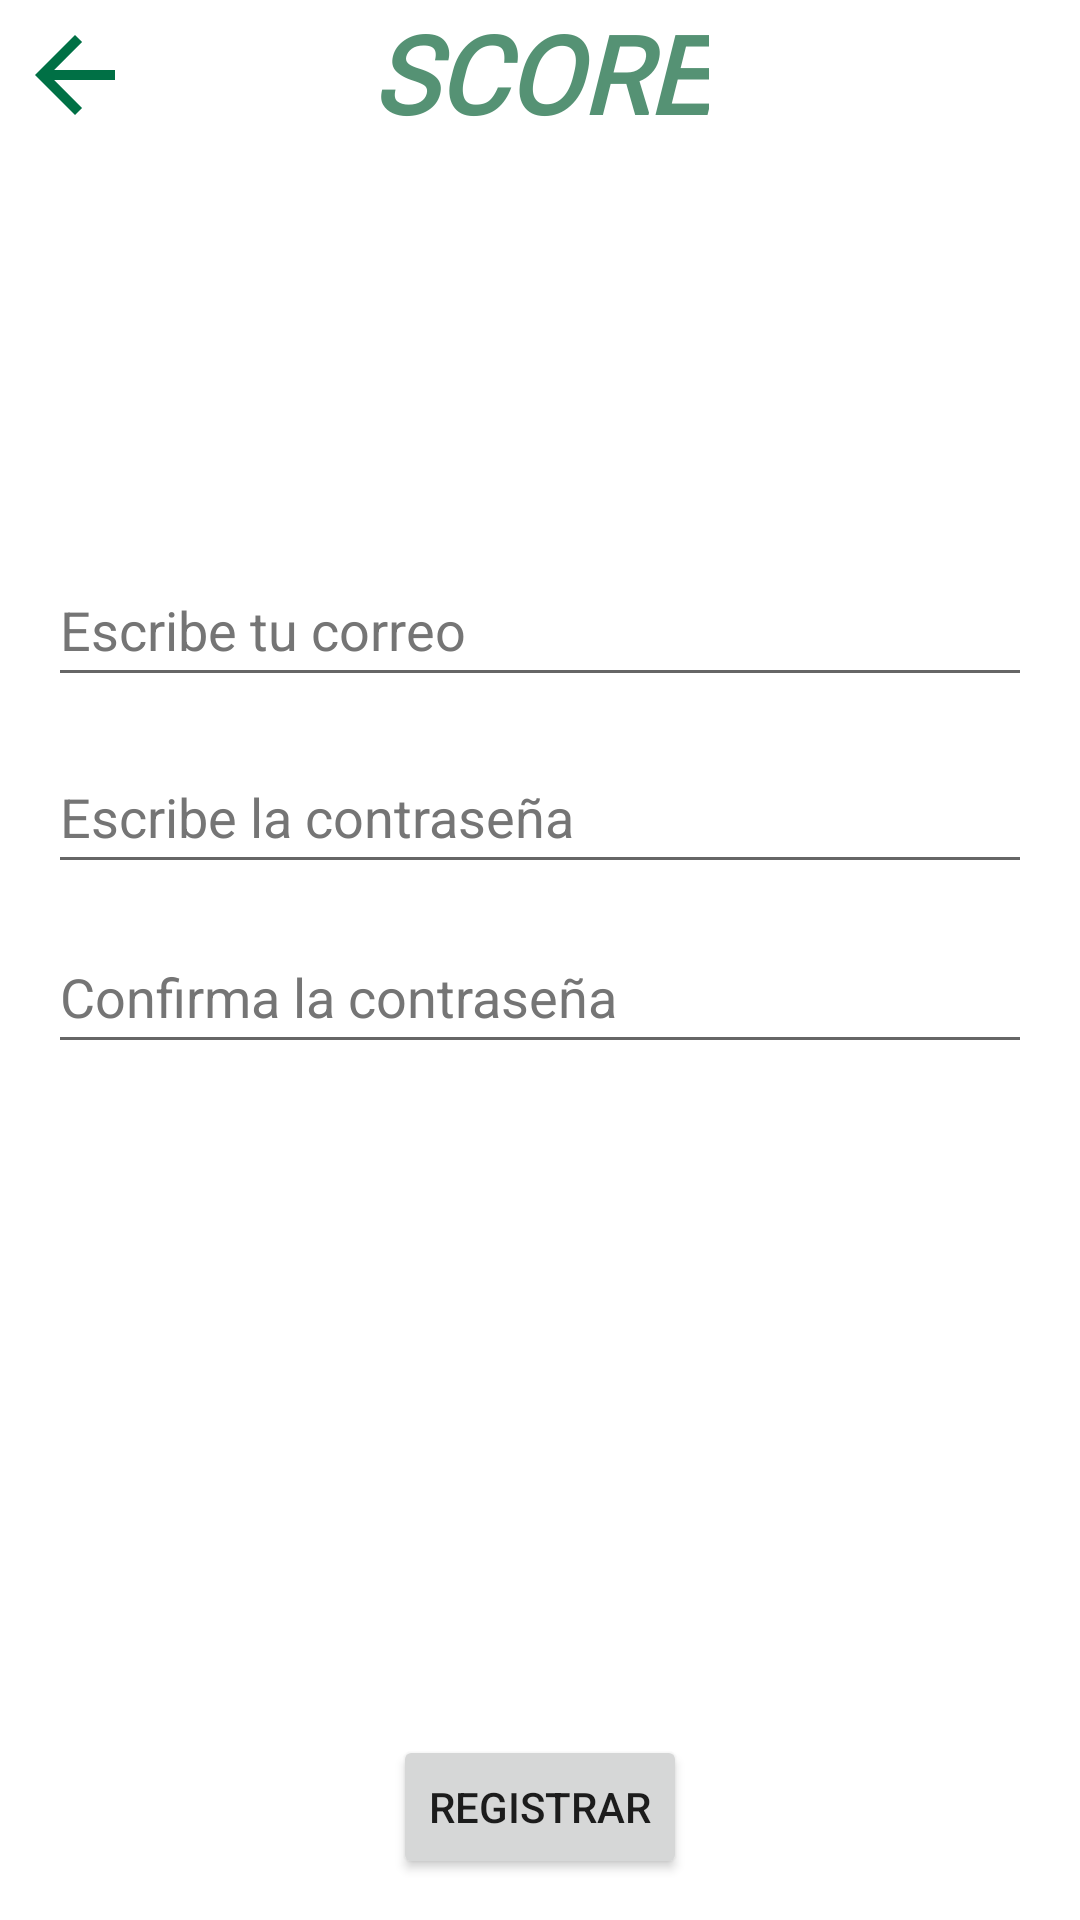

Point at icon controls on the screen. Image size 1080×1920, points as (x=x, y=y).
Vuelta a profile: (x=75, y=75)
